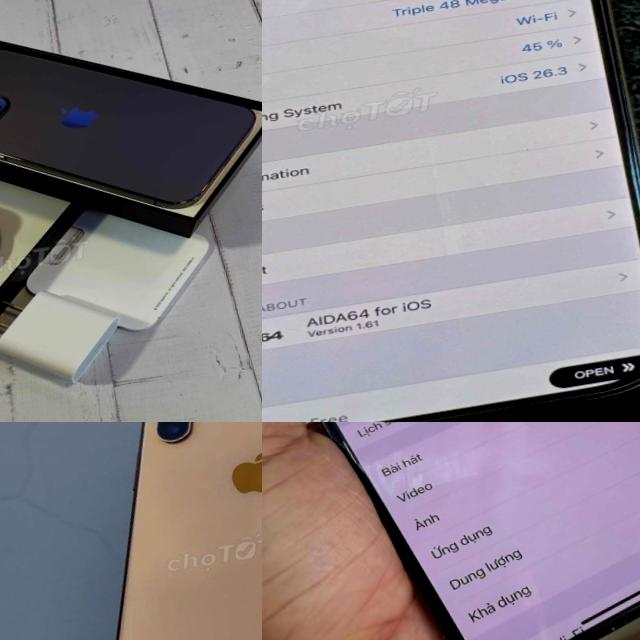gen_12_13: (262, 422, 640, 640), (0, 3, 262, 255)
gen_16: (262, 0, 640, 422)
gen_x_xs: (116, 422, 262, 640)
